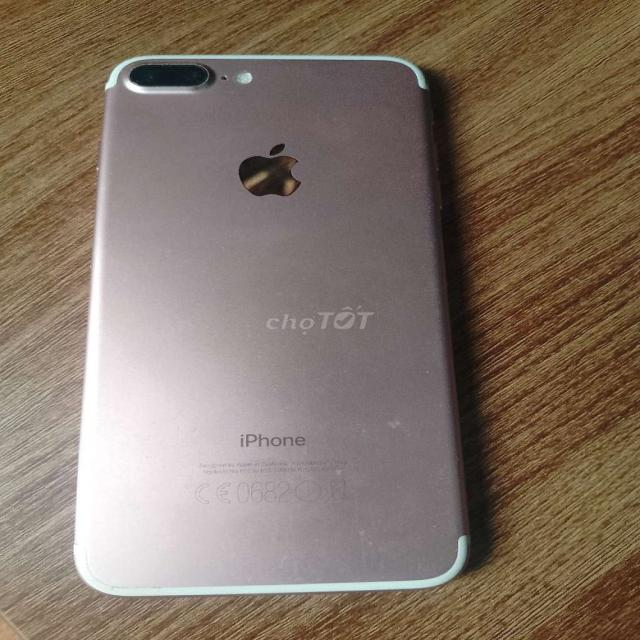gen_7_8: (75, 48, 478, 604)
